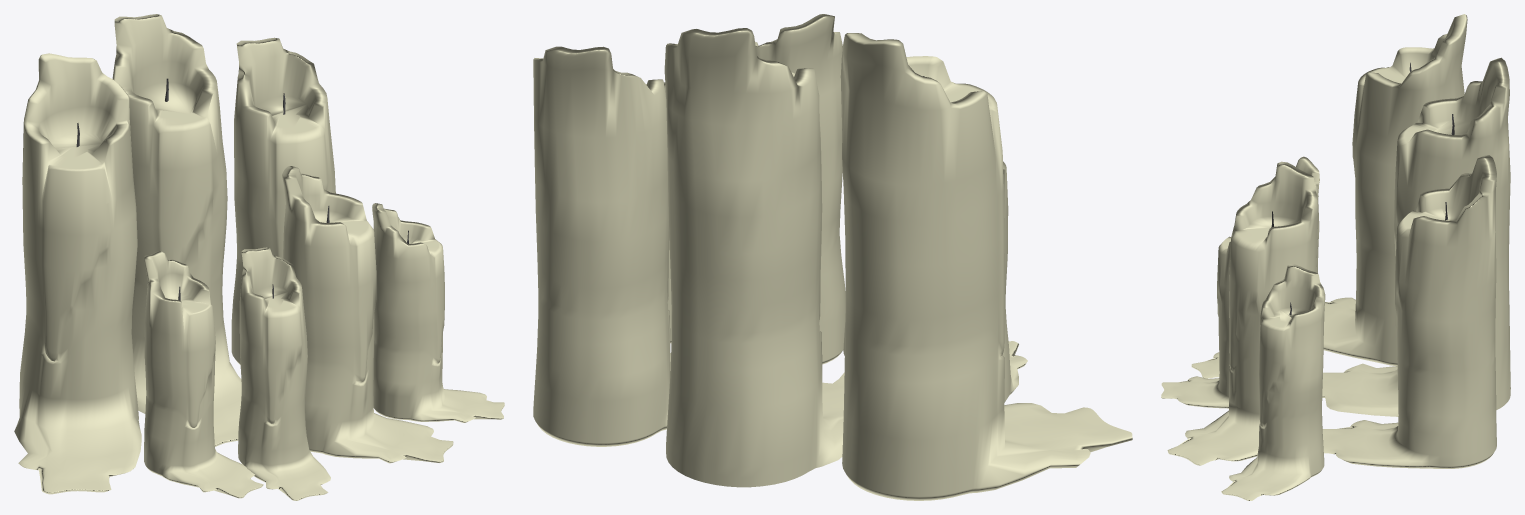
Rendered from CandleSet.fbx.
3 views of the same model, side by side, from view 1: azimuth 30°, elevation 25°; view 2: azimuth 150°, elevation 25°; view 3: azimuth 270°, elevation 25° (orthographic). The views are drawn at different scales.
Parts seen in each view (by area): view 1: CandleSet; view 2: CandleSet; view 3: CandleSet.
Part boxes in pixels (left/top/right/bottom): CandleSet: left=14, top=14, right=504, bottom=500; CandleSet: left=533, top=14, right=1132, bottom=500; CandleSet: left=1161, top=14, right=1510, bottom=500.
Bounding box in the file's own units: 33.26 × 25.46 × 24.46.
